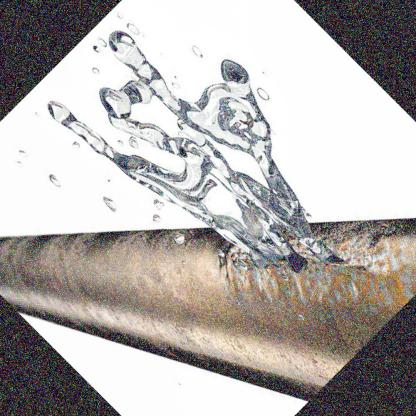burst: (191, 236, 373, 301)
